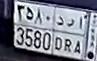0: (43, 12, 51, 51)
3: (15, 4, 25, 46)
5: (25, 5, 33, 48)
8: (34, 6, 42, 49)
A: (75, 16, 82, 55)
D: (55, 15, 63, 53)
R: (65, 17, 74, 53)
